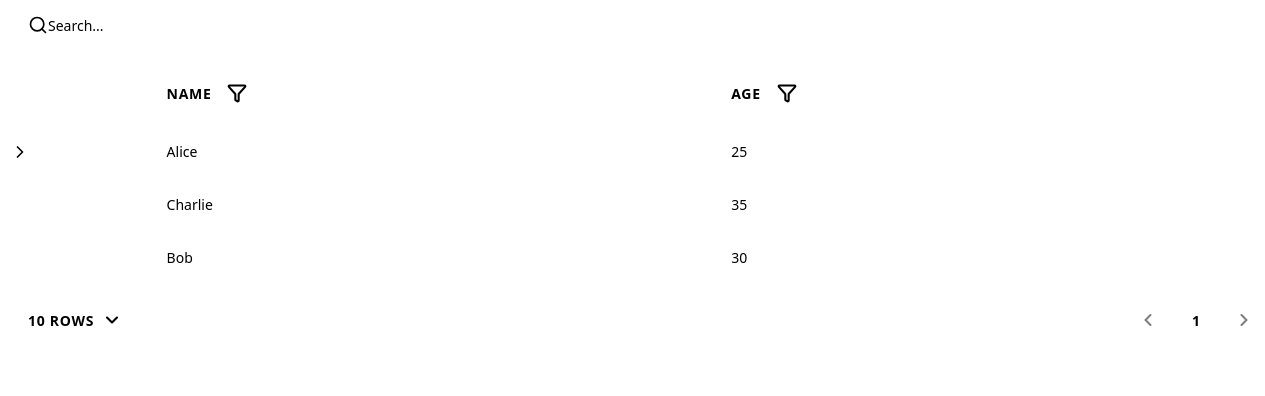
Test: Table Component › renderExpandedRow › should toggle expanded content when chevron is clicked
The width and height of the screenshot is (1265, 396).
What coordinates should you click on to do the following:
click the button named "expand"
I would click on:
 (20, 152)
Its box is [8,140,32,164].
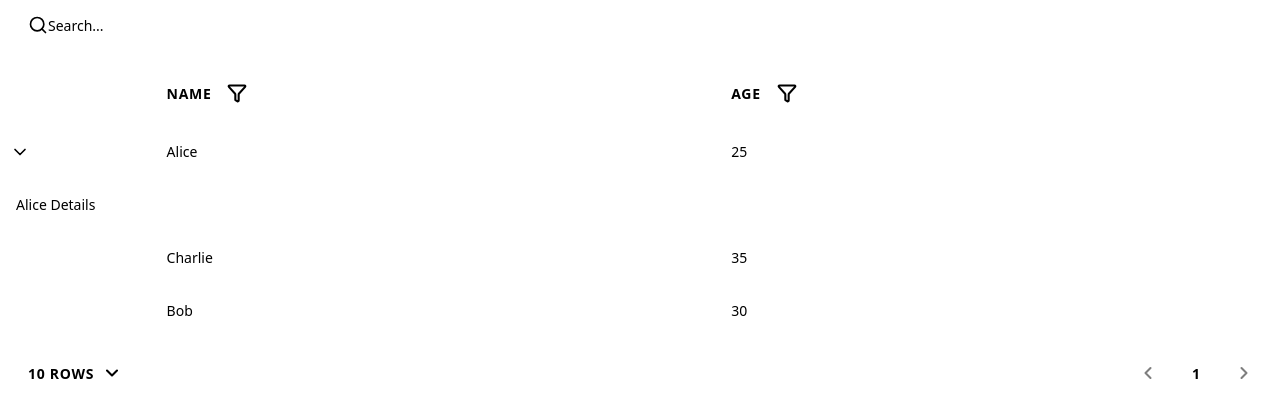
Result: the text "Alice Details" is shown at [16,195,95,214]
Click again to collapse
What coordinates should you click on to do the following:
click the button named "collapse"
I would click on:
 (20, 152)
Its box is [8,140,32,164].
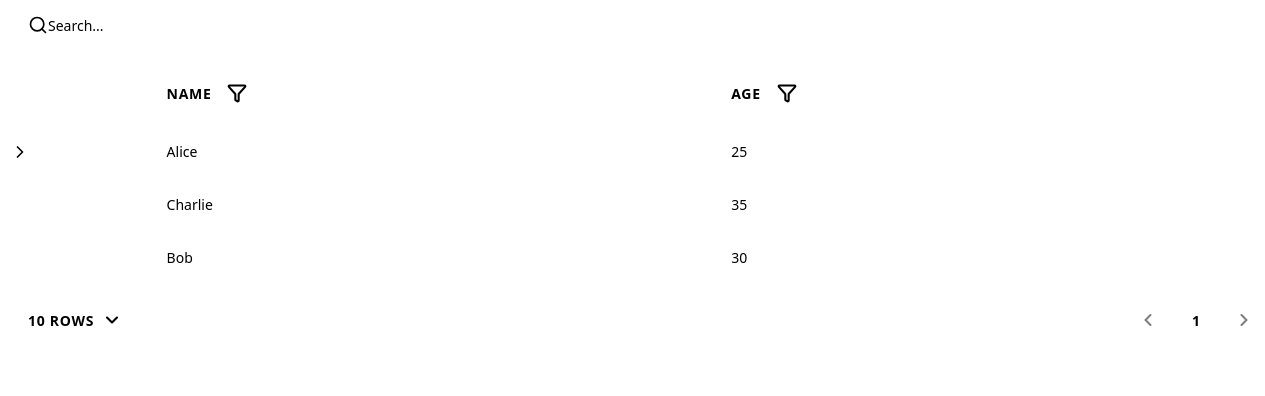
Result: the text with test id "expanded-alice" is gone
